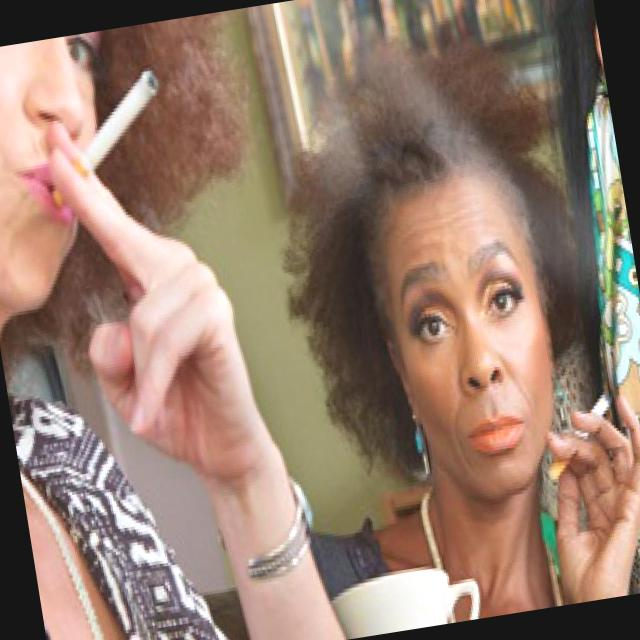cigarette: (51, 56, 180, 202), (528, 368, 629, 484)
